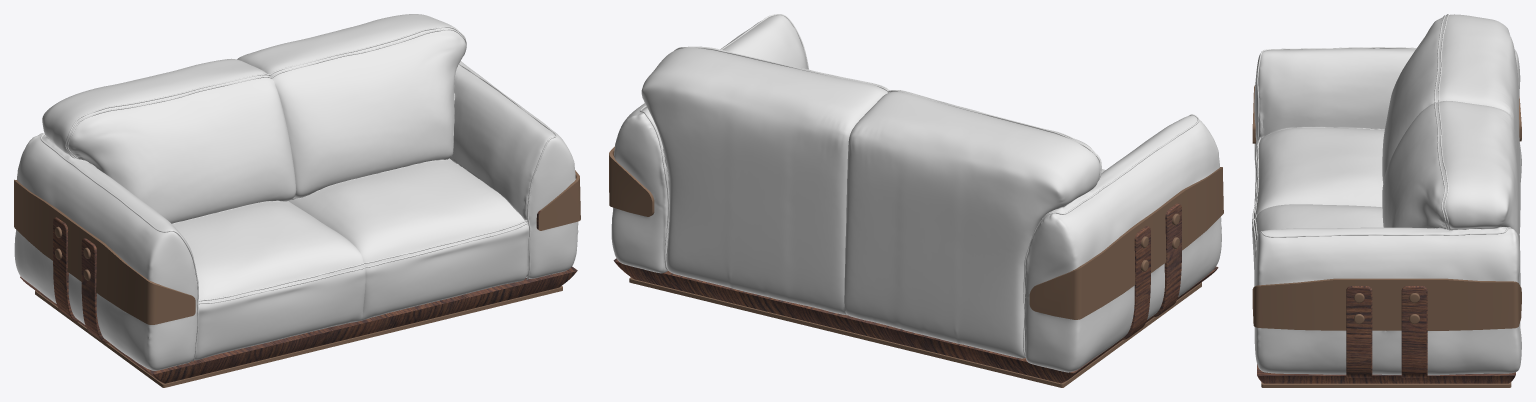
Rendered from St_Hilker_Dusseldorf_2_Seater.glb.
3 renders of one model, left to right at view 1: azimuth 30°, elevation 25°; view 2: azimuth 150°, elevation 25°; view 3: azimuth 270°, elevation 25°, orthographic. The views are drawn at different scales.
Parts seen in each view (by area): view 1: Dusseldorf_Sofa_2STR; view 2: Dusseldorf_Sofa_2STR; view 3: Dusseldorf_Sofa_2STR.
Boxes of the visible parts, x1,y1,x2,y2 form: Dusseldorf_Sofa_2STR: (14, 14, 580, 387); Dusseldorf_Sofa_2STR: (609, 14, 1223, 387); Dusseldorf_Sofa_2STR: (1252, 14, 1521, 387).
Bounding box in the file's own units: 2.03 × 0.88 × 1.08.
Materials: 4 (1 with a texture image).
